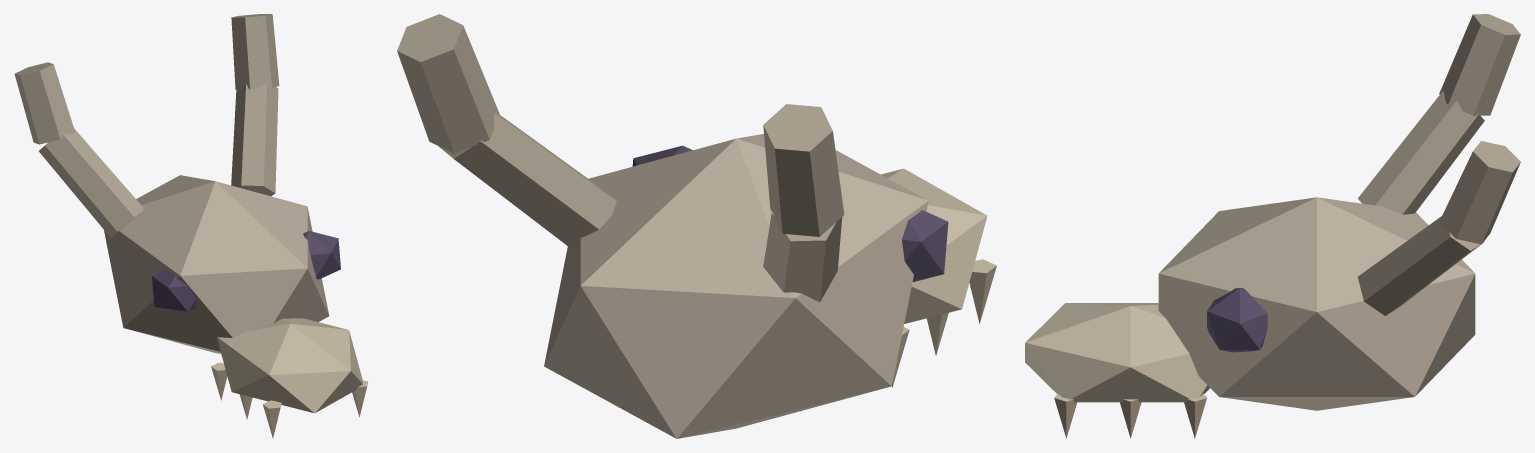
File: map-exclusive-v3__dragon_02.glb
The picture shows the model from 3 angles, left to right: view 1: azimuth 30°, elevation 25°; view 2: azimuth 150°, elevation 25°; view 3: azimuth 270°, elevation 25°; orthographic projection. The views are drawn at different scales.
Visible parts, largest first — view 1: dragon_02; view 2: dragon_02; view 3: dragon_02.
Boxes of the visible parts, x1,y1,x2,y2 form: dragon_02: [14, 14, 368, 437]; dragon_02: [397, 14, 996, 438]; dragon_02: [1025, 14, 1520, 438].
Size of the model in its own units: 1.69 by 1.7 by 2.32.
